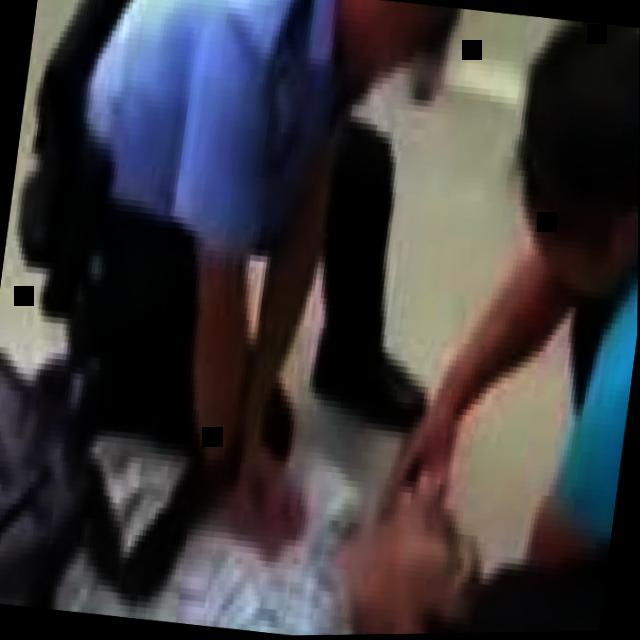Fall-Detected: (0, 360, 531, 640)
